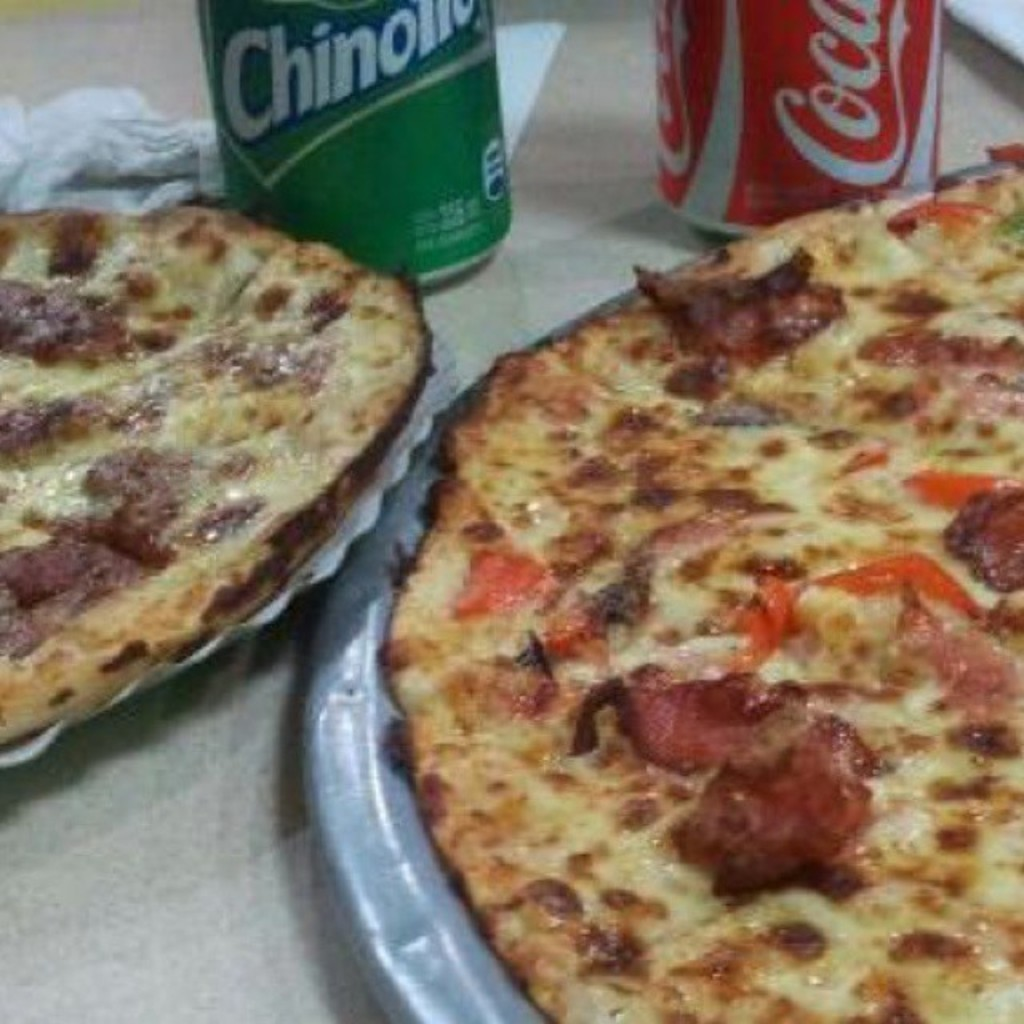Pizza: (371, 185, 1012, 1024), (0, 212, 422, 768)
